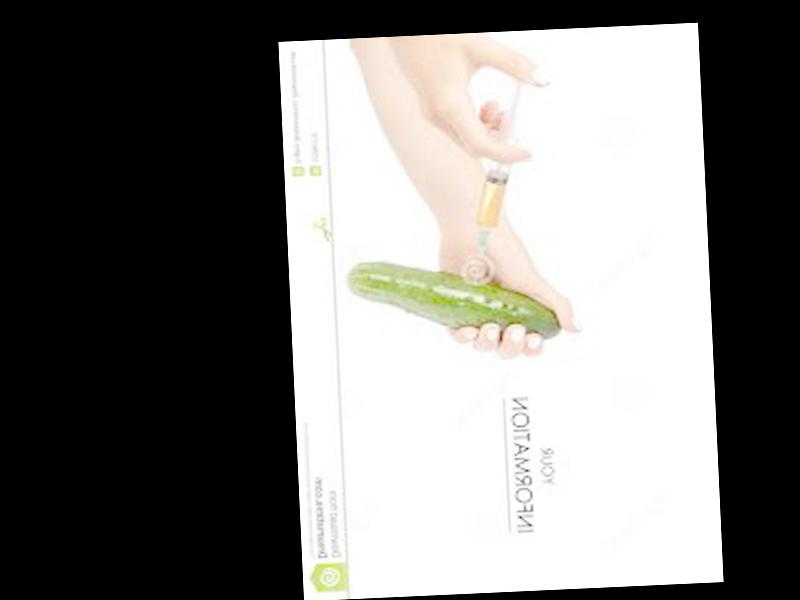Cucumber: (345, 253, 561, 347)
